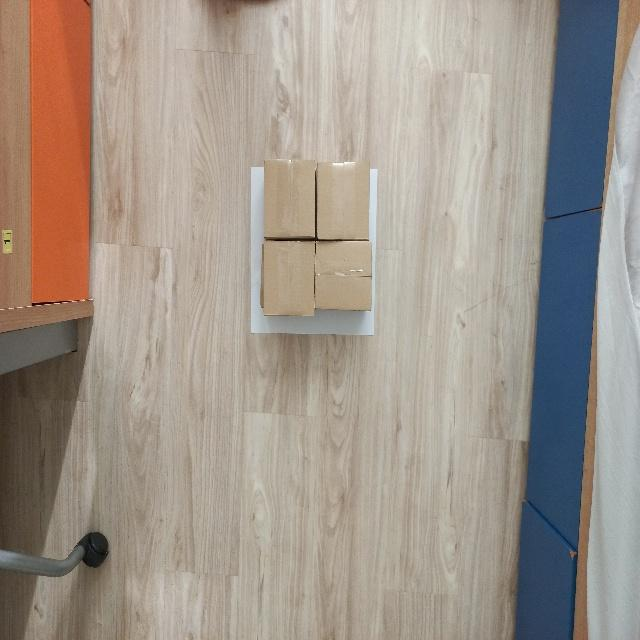box: (316, 160, 371, 240), (262, 159, 316, 239), (315, 242, 373, 312), (264, 240, 316, 318)
